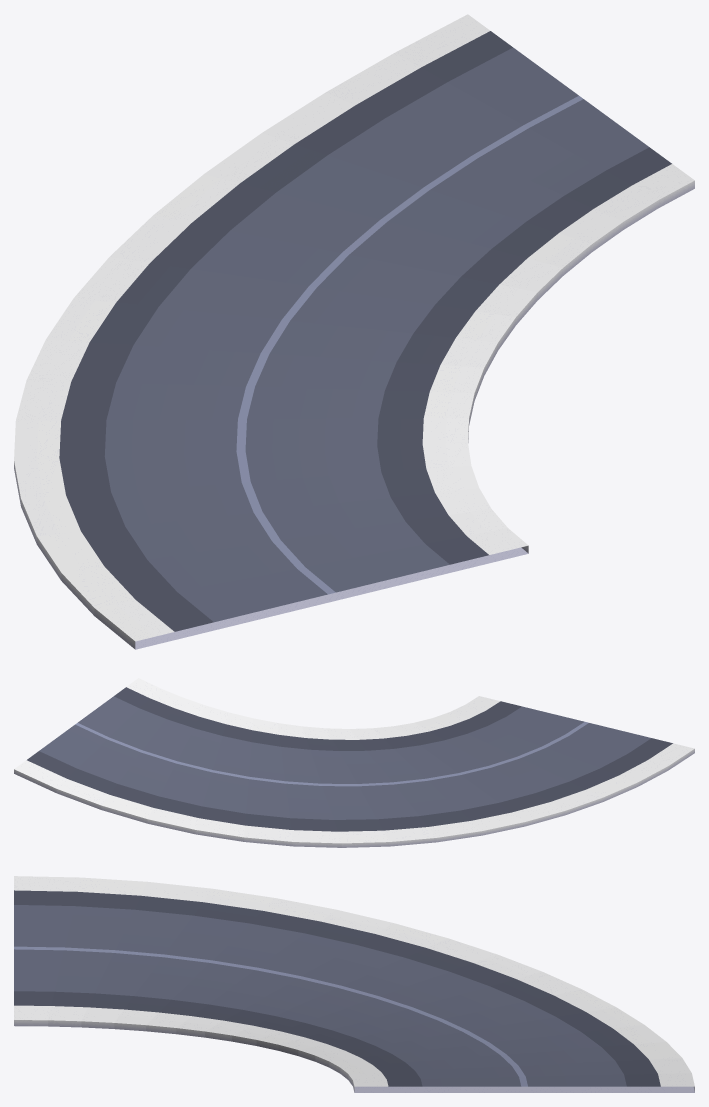
The model's file is road-Turn-Flat-BiSlopeUp-Up1-Right-Size2.glb.
3 renders of one model, top to bottom at view 1: azimuth 30°, elevation 25°; view 2: azimuth 150°, elevation 25°; view 3: azimuth 270°, elevation 25°, orthographic. The views are drawn at different scales.
Visible parts, largest first — view 1: road-Turn-Flat-BiSlopeUp-Up1-Right-Size2; view 2: road-Turn-Flat-BiSlopeUp-Up1-Right-Size2; view 3: road-Turn-Flat-BiSlopeUp-Up1-Right-Size2.
Part boxes in pixels (x1=…): road-Turn-Flat-BiSlopeUp-Up1-Right-Size2: x1=14, y1=14, x2=694, y2=649; road-Turn-Flat-BiSlopeUp-Up1-Right-Size2: x1=14, y1=678, x2=694, y2=847; road-Turn-Flat-BiSlopeUp-Up1-Right-Size2: x1=14, y1=876, x2=694, y2=1092.
Bounding box in the file's own units: 2 × 0.2706 × 2.
1 material, 1 textured.
